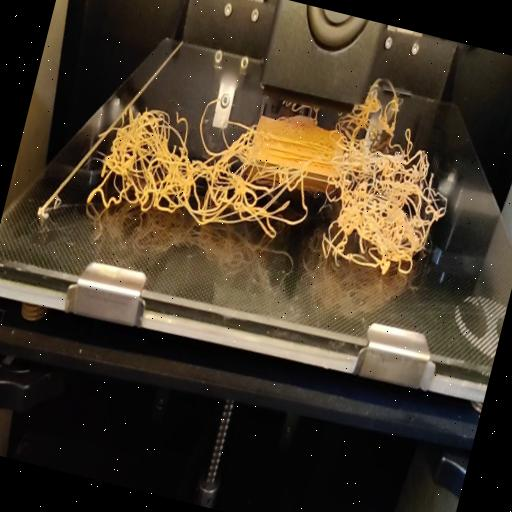spaghetti: (81, 67, 461, 300), (360, 72, 406, 132), (403, 126, 413, 141)
